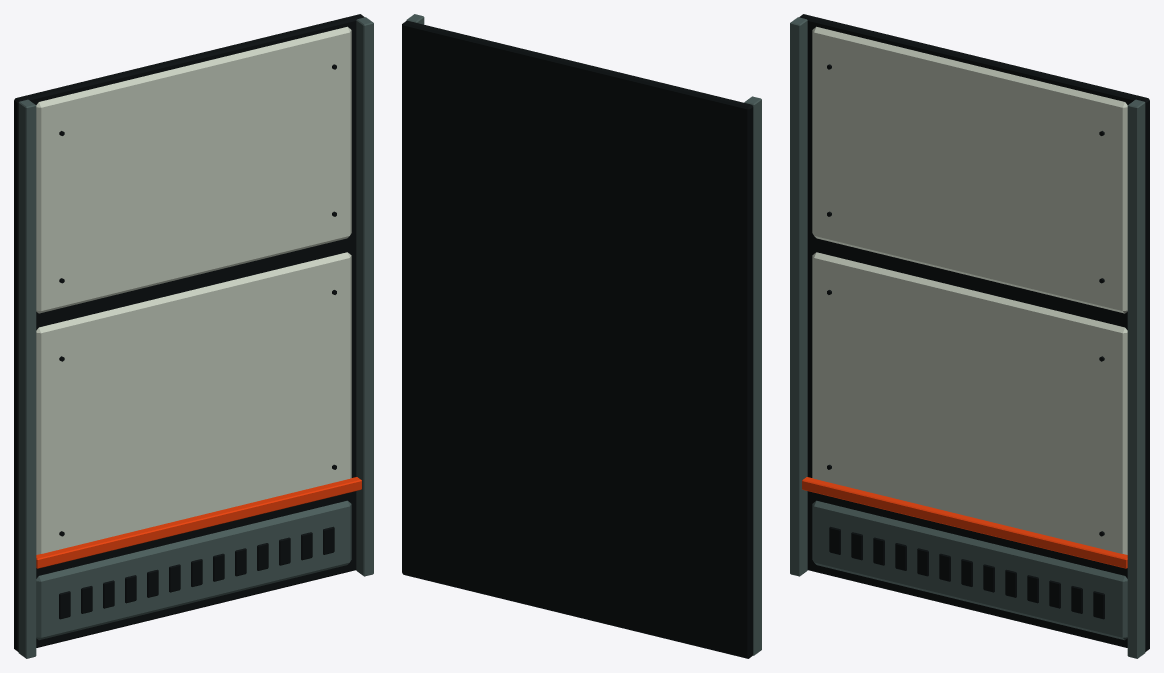
Rendered from SM_MP_Interior_Panel.fbx.
3 views of the same model, side by side, from view 1: azimuth 30°, elevation 25°; view 2: azimuth 150°, elevation 25°; view 3: azimuth 330°, elevation 25° (orthographic).
Visible parts, largest first — view 1: SM_MP_Interior_Panel; view 2: SM_MP_Interior_Panel; view 3: SM_MP_Interior_Panel.
Part boxes in pixels (box(x1,y1,x2,y2)): SM_MP_Interior_Panel: box(14, 14, 373, 658); SM_MP_Interior_Panel: box(402, 14, 761, 658); SM_MP_Interior_Panel: box(790, 14, 1149, 658).
Bounding box in the file's own units: 396 × 26 × 600.
Materials: 1 (1 with a texture image).
